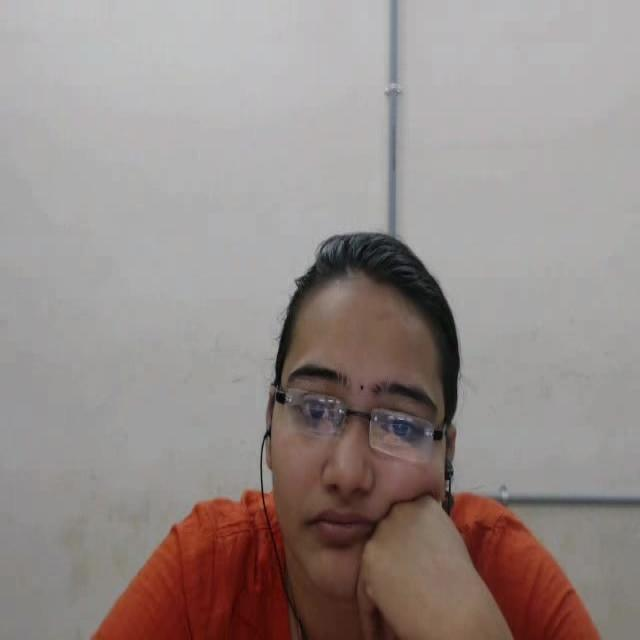Bored: (251, 196, 496, 634)
